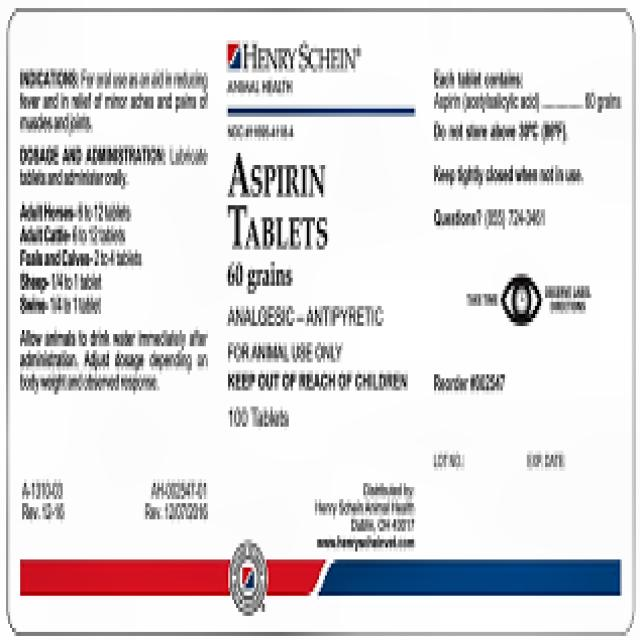Aspirin: (219, 148, 343, 264)
